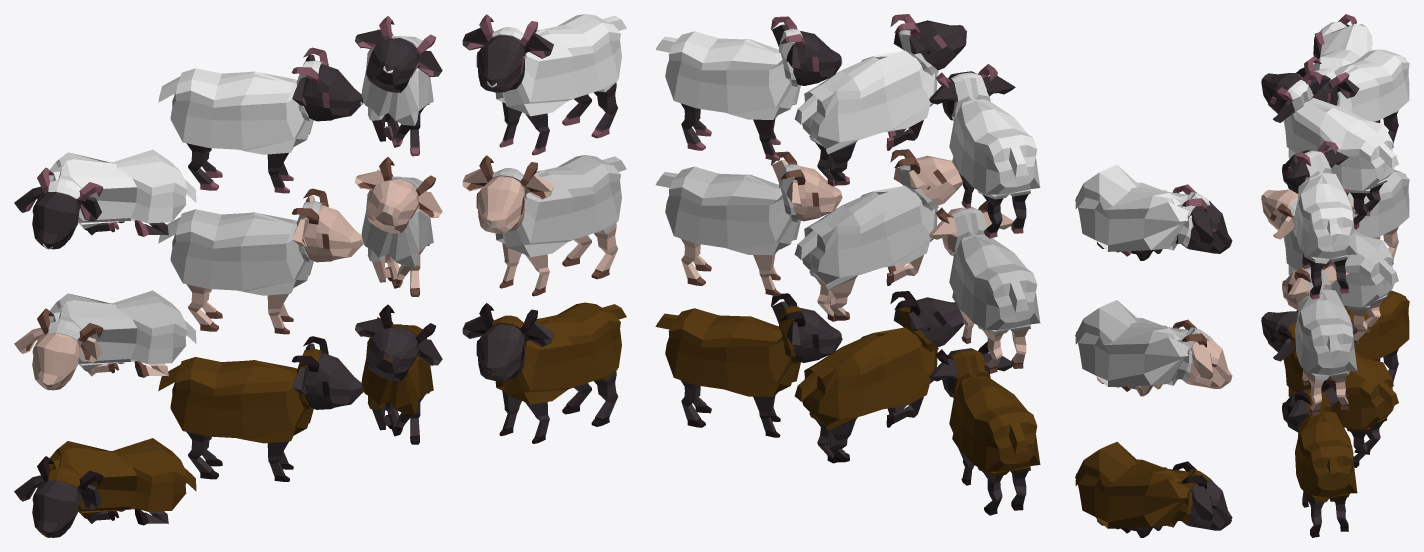
File: Rams_by_Hatty.fbx
3 renders of one model, left to right at view 1: azimuth 30°, elevation 25°; view 2: azimuth 150°, elevation 25°; view 3: azimuth 270°, elevation 25°, orthographic. The views are drawn at different scales.
Visible parts, largest first — view 1: Ram_1_Stand.001, Ram_1_Stand.002, Ram_1_Stand, Ram_1_Look.002, Ram_1_Look.001, Ram_1_Look, Ram_1_Sleep, Ram_1_Sleep.001, Ram_1_Sleep.002, Ram_1_Jump, Ram_1_Jump.002, Ram_1_Jump.001; view 2: Ram_1_Jump.001, Ram_1_Look.001, Ram_1_Look.002, Ram_1_Look, Ram_1_Jump.002, Ram_1_Jump, Ram_1_Stand.001, Ram_1_Stand.002, Ram_1_Stand, Ram_1_Sleep.002, Ram_1_Sleep.001, Ram_1_Sleep; view 3: Ram_1_Jump.001, Ram_1_Look.001, Ram_1_Look.002, Ram_1_Look, Ram_1_Jump.002, Ram_1_Jump, Ram_1_Stand.001, Ram_1_Stand.002, Ram_1_Stand, Ram_1_Sleep.001.
Boxes of the visible parts, x1,y1,x2,y2 form: Ram_1_Stand.001: (158, 47, 363, 193); Ram_1_Stand.002: (158, 336, 363, 481); Ram_1_Stand: (158, 188, 363, 334); Ram_1_Look.002: (462, 302, 626, 443); Ram_1_Look.001: (462, 14, 626, 155); Ram_1_Look: (462, 155, 626, 296); Ram_1_Sleep: (14, 290, 196, 390); Ram_1_Sleep.001: (14, 149, 196, 249); Ram_1_Sleep.002: (14, 438, 196, 537); Ram_1_Jump: (355, 157, 442, 296); Ram_1_Jump.002: (355, 304, 442, 444); Ram_1_Jump.001: (355, 16, 442, 156); Ram_1_Jump.001: (794, 14, 967, 186); Ram_1_Look.001: (655, 16, 842, 160); Ram_1_Look.002: (655, 293, 842, 437); Ram_1_Look: (655, 151, 842, 295); Ram_1_Jump.002: (794, 291, 963, 463); Ram_1_Jump: (794, 149, 962, 321); Ram_1_Stand.001: (929, 64, 1040, 238); Ram_1_Stand.002: (929, 341, 1040, 515); Ram_1_Stand: (929, 201, 1040, 373); Ram_1_Sleep.002: (1075, 442, 1232, 537); Ram_1_Sleep.001: (1075, 165, 1232, 260); Ram_1_Sleep: (1075, 300, 1232, 396); Ram_1_Jump.001: (1261, 70, 1398, 229); Ram_1_Look.001: (1282, 141, 1357, 299); Ram_1_Look.002: (1282, 379, 1357, 537); Ram_1_Look: (1282, 260, 1357, 415); Ram_1_Jump.002: (1261, 311, 1398, 467); Ram_1_Jump: (1261, 189, 1398, 345); Ram_1_Stand.001: (1296, 49, 1409, 148); Ram_1_Stand.002: (1296, 290, 1409, 386); Ram_1_Stand: (1344, 169, 1409, 264); Ram_1_Sleep.001: (1313, 14, 1372, 71).
Size of the model in its own units: 1260 by 924 by 330.
